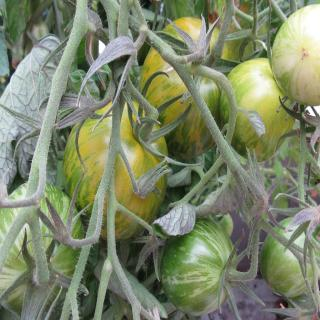tomato: (62, 100, 172, 242), (142, 12, 236, 160), (0, 183, 83, 319), (225, 57, 295, 162), (160, 223, 238, 313), (258, 217, 320, 300), (270, 5, 320, 107)
